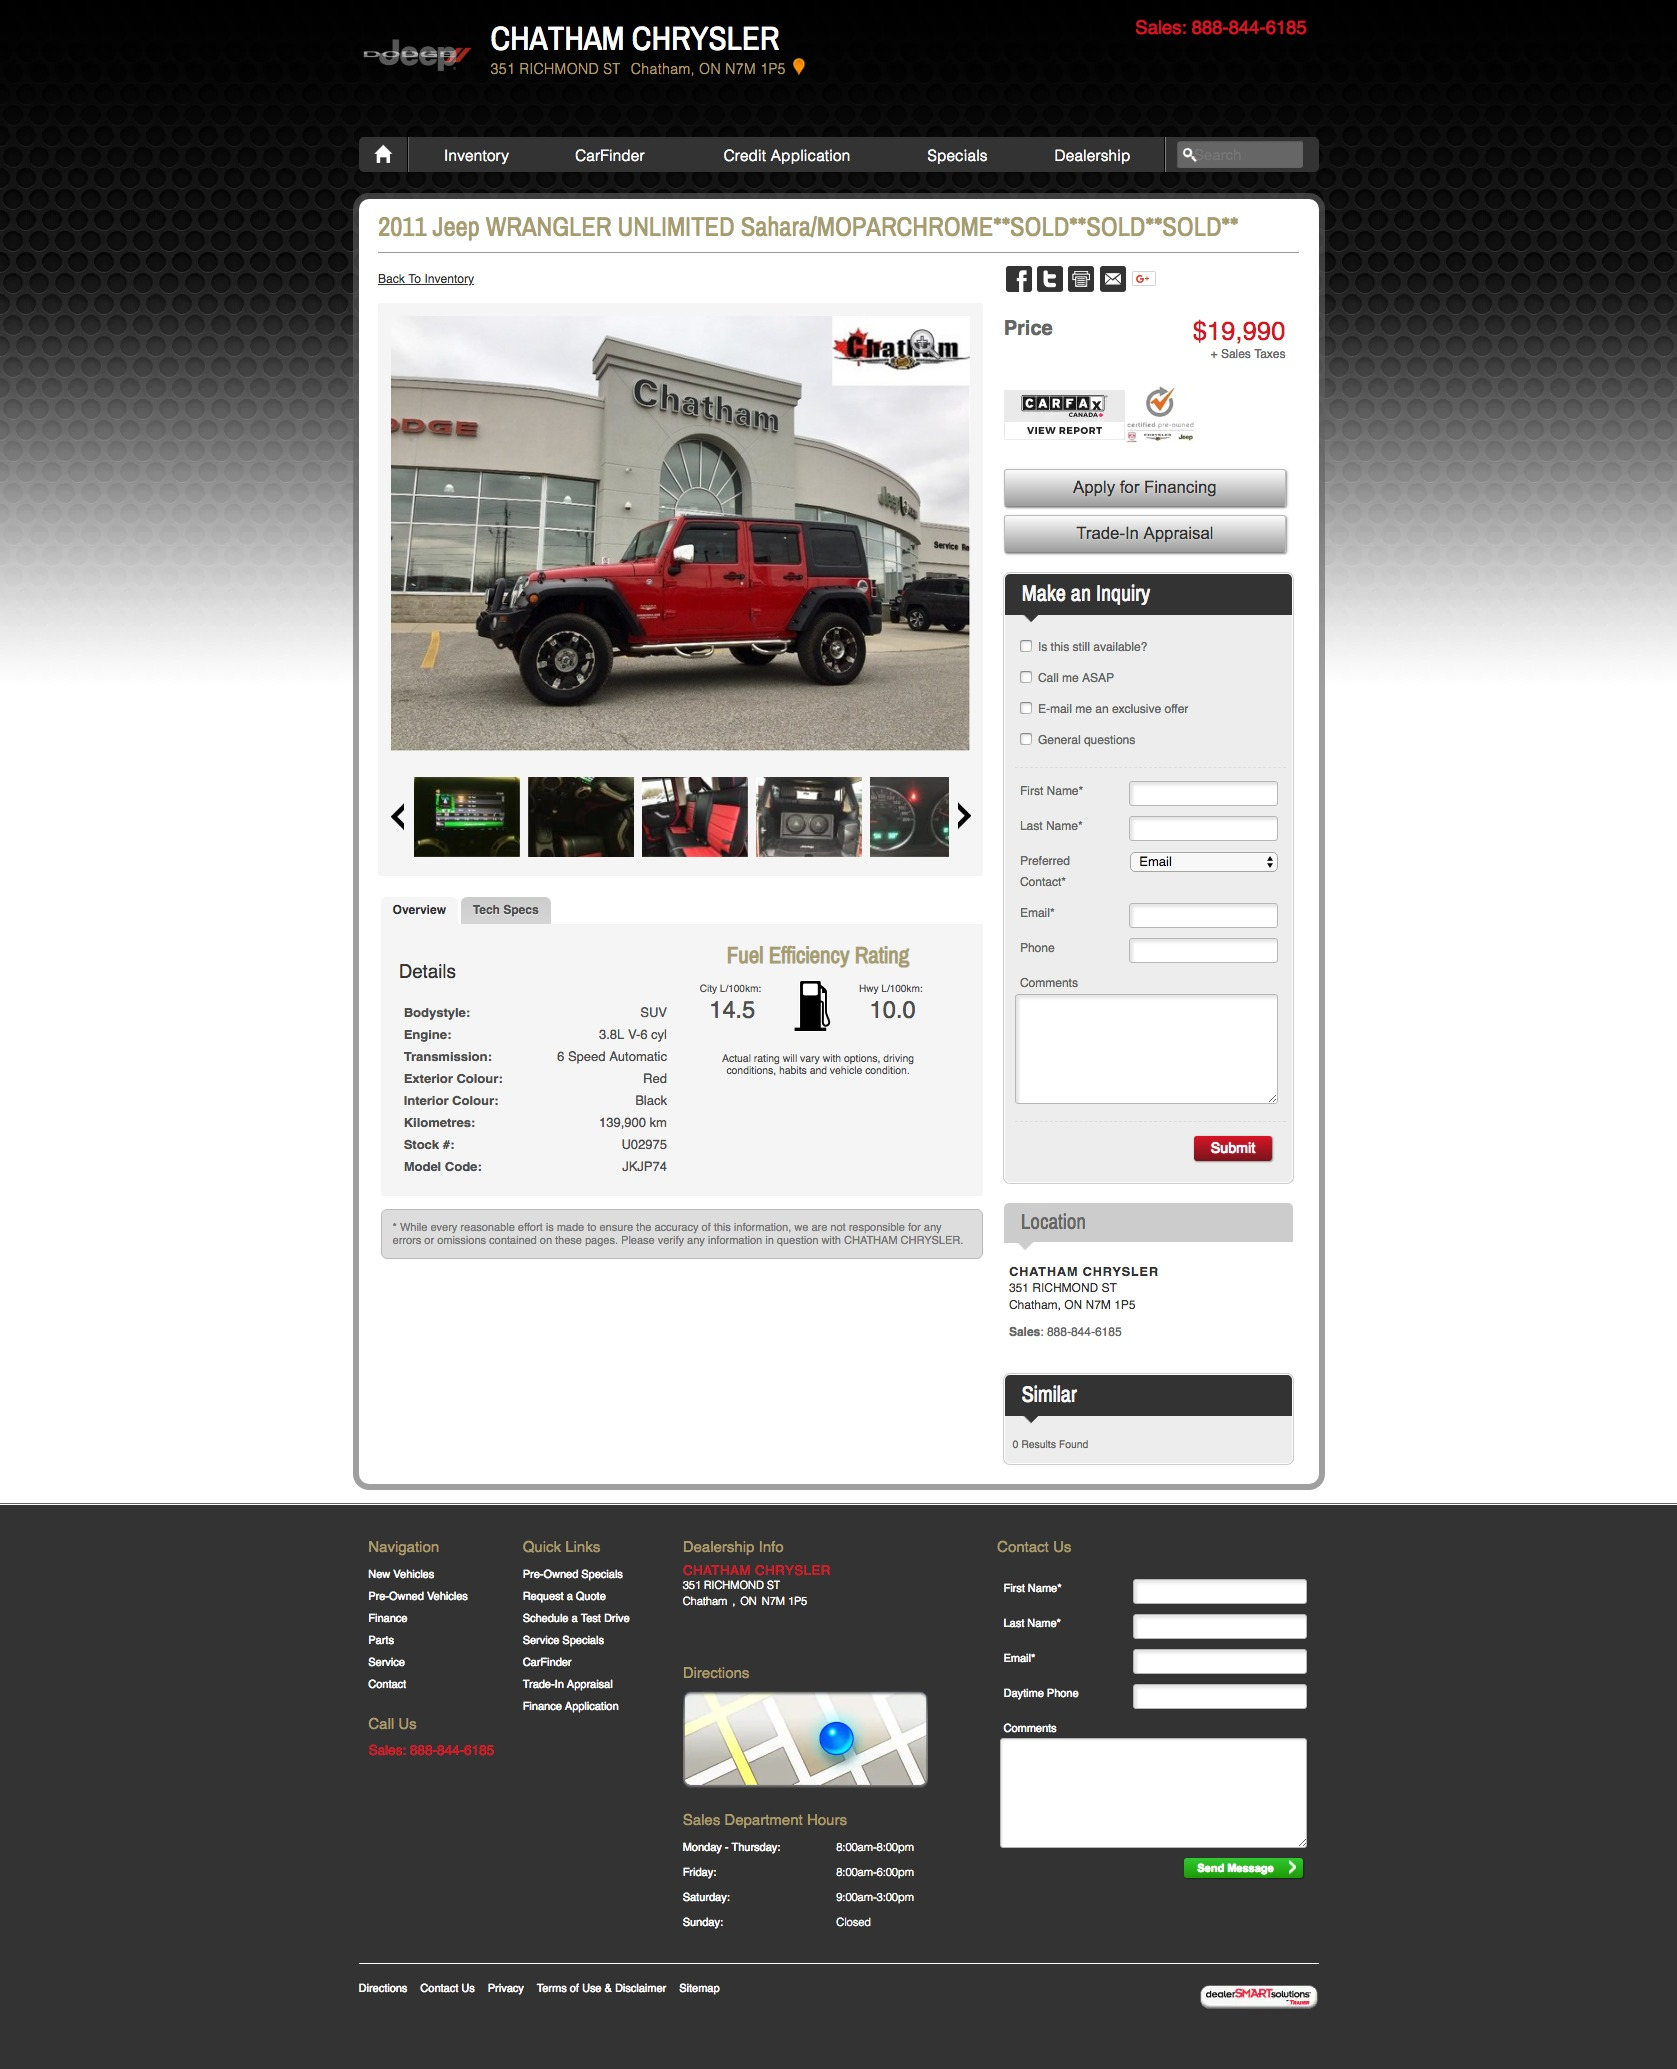car: (957, 801, 974, 832)
